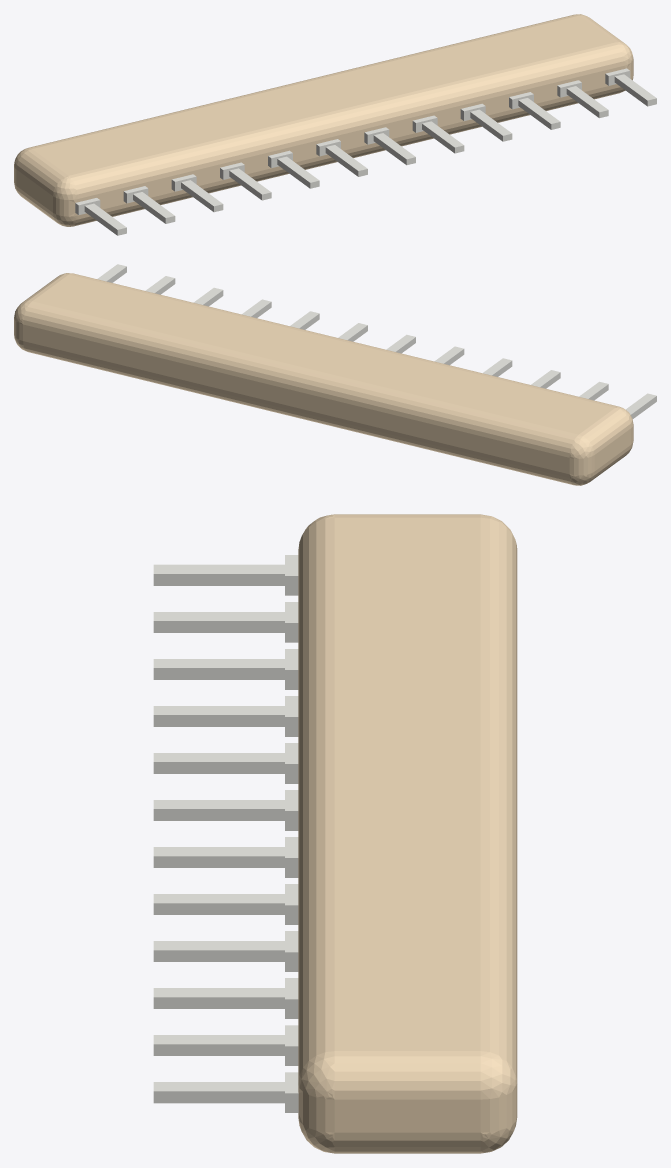
The model's file is R_Array_SIP12.glb.
3 views of the same model, one above another, from view 1: azimuth 30°, elevation 25°; view 2: azimuth 150°, elevation 25°; view 3: azimuth 270°, elevation 25° (orthographic). The views are drawn at different scales.
Visible parts, largest first — view 1: Shape_IndexedFaceSet.073, Shape_IndexedFaceSet.019, Shape_IndexedFaceSet.007, Shape_IndexedFaceSet.003, Shape_IndexedFaceSet.068, Shape_IndexedFaceSet.067, Shape_IndexedFaceSet.013, Shape_IndexedFaceSet.072, Shape_IndexedFaceSet.020; view 2: Shape_IndexedFaceSet.073, Shape_IndexedFaceSet.068, Shape_IndexedFaceSet.014, Shape_IndexedFaceSet.006, Shape_IndexedFaceSet.019, Shape_IndexedFaceSet.067, Shape_IndexedFaceSet.013, Shape_IndexedFaceSet.066, Shape_IndexedFaceSet.087; view 3: Shape_IndexedFaceSet.073, Shape_IndexedFaceSet.068, Shape_IndexedFaceSet.019, Shape_IndexedFaceSet.065, Shape_IndexedFaceSet.011, Shape_IndexedFaceSet.004, Shape_IndexedFaceSet.089, Shape_IndexedFaceSet.093, Shape_IndexedFaceSet.097, Shape_IndexedFaceSet.101, Shape_IndexedFaceSet.105, Shape_IndexedFaceSet.109 (+22 smaller).
Part boxes in pixels (<box>): Shape_IndexedFaceSet.073: <box>32,15,614,175</box>; Shape_IndexedFaceSet.019: <box>69,42,624,198</box>; Shape_IndexedFaceSet.007: <box>78,66,624,215</box>; Shape_IndexedFaceSet.003: <box>74,84,623,226</box>; Shape_IndexedFaceSet.068: <box>28,14,578,148</box>; Shape_IndexedFaceSet.067: <box>16,149,68,195</box>; Shape_IndexedFaceSet.013: <box>16,169,52,212</box>; Shape_IndexedFaceSet.072: <box>53,176,77,199</box>; Shape_IndexedFaceSet.020: <box>53,196,77,216</box>; Shape_IndexedFaceSet.073: <box>32,274,614,434</box>; Shape_IndexedFaceSet.068: <box>23,301,578,457</box>; Shape_IndexedFaceSet.014: <box>23,324,569,474</box>; Shape_IndexedFaceSet.006: <box>23,341,573,485</box>; Shape_IndexedFaceSet.019: <box>69,273,618,407</box>; Shape_IndexedFaceSet.067: <box>579,408,630,454</box>; Shape_IndexedFaceSet.013: <box>594,428,630,470</box>; Shape_IndexedFaceSet.066: <box>569,455,594,475</box>; Shape_IndexedFaceSet.087: <box>569,435,594,458</box>; Shape_IndexedFaceSet.073: <box>334,517,480,1050</box>; Shape_IndexedFaceSet.068: <box>480,517,517,1082</box>; Shape_IndexedFaceSet.019: <box>298,517,334,1081</box>; Shape_IndexedFaceSet.065: <box>334,1051,480,1099</box>; Shape_IndexedFaceSet.011: <box>334,1099,480,1132</box>; Shape_IndexedFaceSet.004: <box>334,1132,480,1153</box>; Shape_IndexedFaceSet.089: <box>153,1091,284,1103</box>; Shape_IndexedFaceSet.093: <box>153,574,284,585</box>; Shape_IndexedFaceSet.097: <box>153,997,284,1008</box>; Shape_IndexedFaceSet.101: <box>153,950,284,961</box>; Shape_IndexedFaceSet.105: <box>153,856,284,867</box>; Shape_IndexedFaceSet.109: <box>153,903,284,914</box>.
Bounding box in the file's own units: 12 × 0.988 × 3.27.
